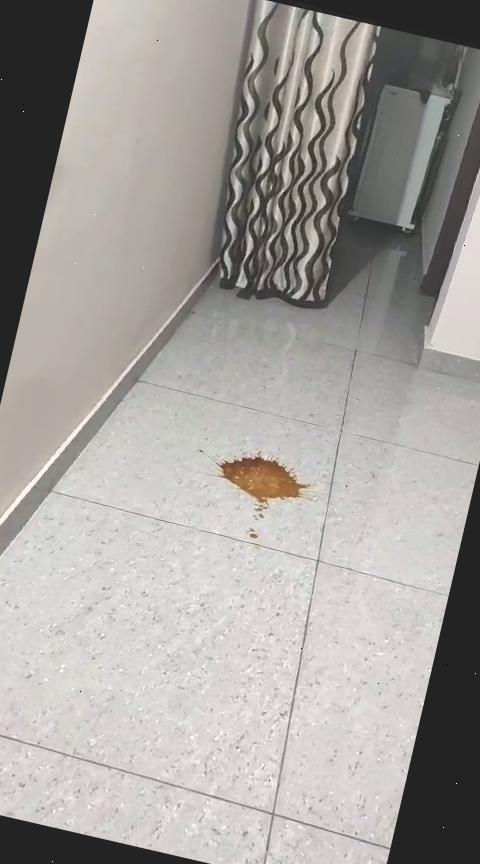dirty_floor: (197, 438, 330, 553)
